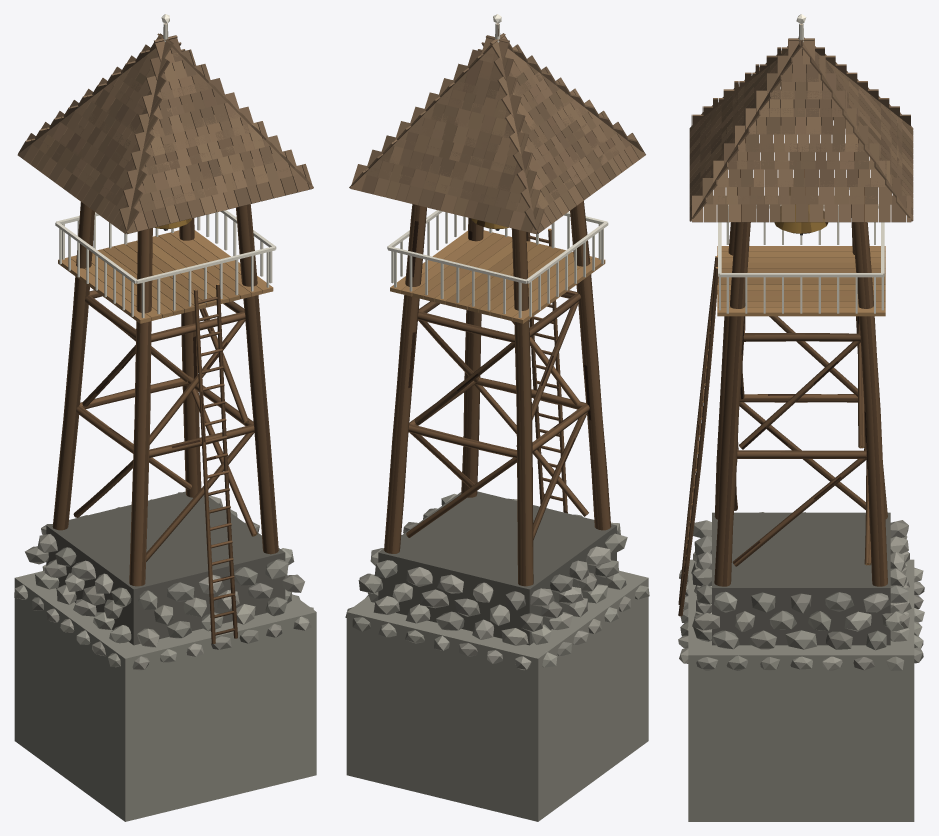
Rendered from cankulesi.glb.
The picture shows the model from 3 angles, left to right: view 1: azimuth 30°, elevation 25°; view 2: azimuth 150°, elevation 25°; view 3: azimuth 270°, elevation 25°; orthographic projection. The views are drawn at different scales.
Parts seen in each view (by area): view 1: stone-plinth-001, stone-006, shingle-001, shingle-004, plank-001, log-001, log-003, log-002, wood-002, log-004, plank-rail-002, log-005 (+12 smaller); view 2: stone-plinth-001, stone-006, shingle-003, shingle-004, plank-001, log-004, log-002, log-001, log-003, wood-002, log-007, plank-rail-003 (+13 smaller); view 3: stone-plinth-001, stone-006, shingle-002, plank-001, log-003, log-004, shingle-003, shingle-001, wood-002, log-006, log-010, shingle-004 (+10 smaller).
Part boxes in pixels (x1=…): stone-plinth-001: x1=14, y1=571, x2=316, y2=821; stone-006: x1=25, y1=491, x2=304, y2=647; shingle-001: x1=119, y1=35, x2=313, y2=234; shingle-004: x1=17, y1=33, x2=173, y2=233; plank-001: x1=58, y1=230, x2=273, y2=323; log-001: x1=129, y1=228, x2=152, y2=586; log-003: x1=236, y1=204, x2=278, y2=554; log-002: x1=52, y1=202, x2=94, y2=530; wood-002: x1=193, y1=283, x2=237, y2=643; log-004: x1=179, y1=218, x2=201, y2=497; plank-rail-002: x1=136, y1=246, x2=275, y2=317; log-005: x1=146, y1=424, x2=254, y2=561; stone-plinth-001: x1=346, y1=570, x2=648, y2=821; stone-006: x1=358, y1=491, x2=627, y2=645; shingle-003: x1=350, y1=35, x2=544, y2=234; shingle-004: x1=490, y1=33, x2=645, y2=233; plank-001: x1=390, y1=230, x2=605, y2=323; log-004: x1=384, y1=204, x2=426, y2=553; log-002: x1=511, y1=228, x2=533, y2=586; log-001: x1=570, y1=201, x2=611, y2=530; log-003: x1=461, y1=217, x2=483, y2=497; wood-002: x1=526, y1=228, x2=567, y2=513; log-007: x1=406, y1=424, x2=516, y2=537; plank-rail-003: x1=388, y1=246, x2=526, y2=318; stone-plinth-001: x1=688, y1=559, x2=914, y2=821; stone-006: x1=691, y1=512, x2=911, y2=650; shingle-002: x1=692, y1=38, x2=911, y2=222; plank-001: x1=717, y1=246, x2=885, y2=316; log-003: x1=714, y1=187, x2=750, y2=586; log-004: x1=849, y1=187, x2=887, y2=586; shingle-003: x1=799, y1=37, x2=913, y2=221; shingle-001: x1=689, y1=38, x2=803, y2=221; wood-002: x1=678, y1=256, x2=718, y2=616; log-006: x1=732, y1=450, x2=866, y2=566; log-010: x1=739, y1=333, x2=860, y2=449; shingle-004: x1=691, y1=39, x2=910, y2=128.
Size of the model in its own units: 4.68 by 15.96 by 4.7.
